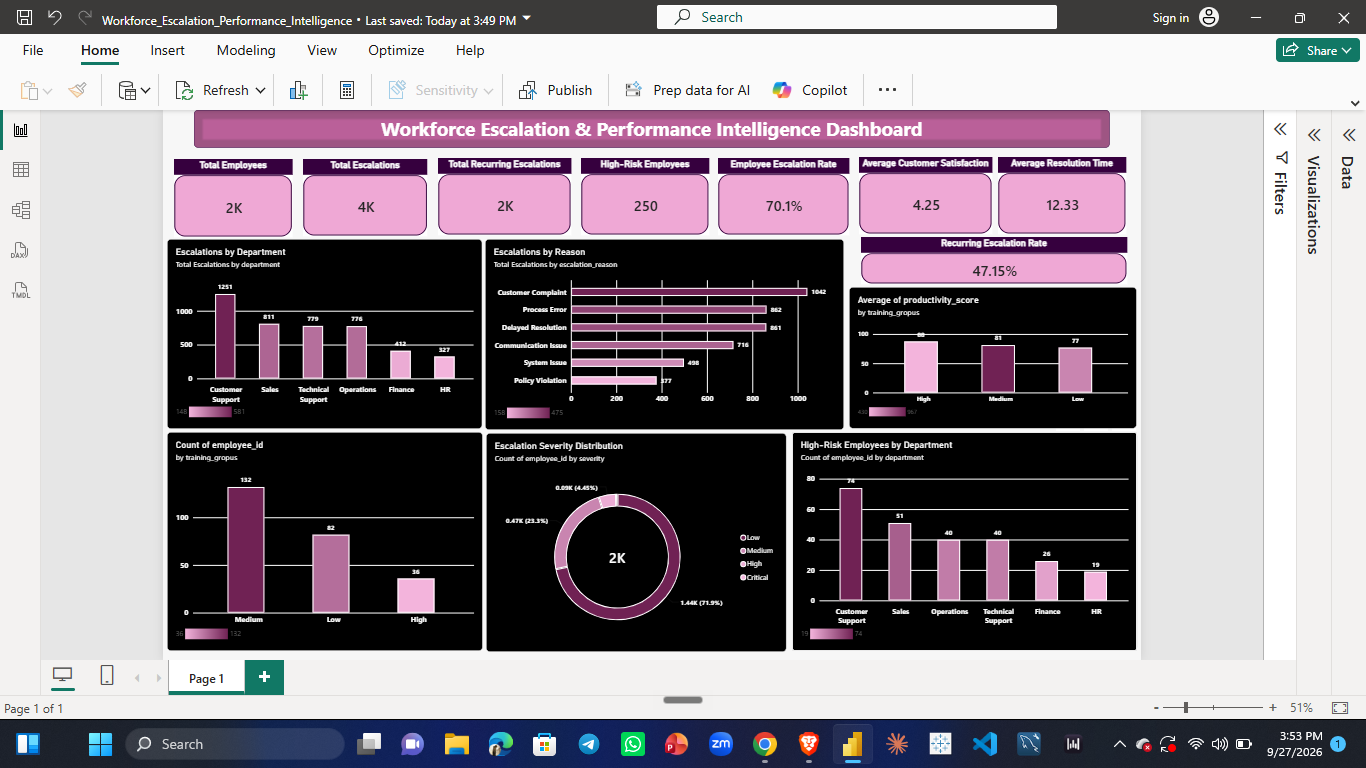

The page's visual inventory and layout, read from the dashboard file:
{"tool":"powerbi","page":{"name":"Page 1","canvas":[1920,1080],"ordinal":0},"visuals":[{"type":"cardVisual","title":"Total Employees","fields":{"Data":["WorkforceData.Total Employees"]},"box":[21.2,96.2,232.7,153.8],"z":0},{"type":"cardVisual","title":"Total Escalations","fields":{"Data":["WorkforceData.Total Escalations"]},"box":[275,96.2,244.2,151.9],"z":1000},{"type":"cardVisual","title":"Total Recurring Escalations","fields":{"Data":["WorkforceData.Recurring Escalations"]},"box":[540.4,94.2,261.5,151.9],"z":2000},{"type":"cardVisual","title":"High-Risk Employees","fields":{"Data":["WorkforceData.High-Risk Employees"]},"box":[821.2,94.2,251.9,151.9],"z":3000},{"type":"cardVisual","title":"Employee Escalation Rate","fields":{"Data":["WorkforceData.Employee Escalation Rate"]},"box":[1090.4,94.2,257.7,151.9],"z":4000},{"type":"cardVisual","title":"Recurring Escalation Rate","fields":{"Data":["WorkforceData.Recurring Escalation Rate"]},"box":[1370,250,522.5,92.5],"z":5000},{"type":"cardVisual","title":"Average Resolution Time","fields":{"Data":["WorkforceData.Average Resolution Time"]},"box":[1640.4,92.3,251.9,151.9],"z":6000},{"type":"cardVisual","title":"Average Customer Satisfaction","fields":{"Data":["WorkforceData.Average Customer Satisfaction"]},"box":[1367.3,92.3,261.5,151.9],"z":7000},{"type":"clusteredColumnChart","title":"Escalations by Department","fields":{"Category":["WorkforceData.department"],"Y":["WorkforceData.Total Escalations"]},"box":[7.5,253.7,619.4,373.1],"z":8000},{"type":"clusteredBarChart","title":"Escalations by Reason","fields":{"Category":["WorkforceData.escalation_reason"],"Y":["WorkforceData.Total Escalations"]},"box":[632.5,252.5,705,375],"z":9000},{"type":"clusteredColumnChart","title":"High-Risk Employees by Department","fields":{"Category":["WorkforceData.department"],"Y":["CountNonNull(WorkforceData.employee_id)"]},"box":[1235,632.5,677.5,430],"z":10000},{"type":"donutChart","title":"Escalation Severity Distribution","fields":{"Category":["WorkforceData.severity"],"Y":["CountNonNull(WorkforceData.employee_id)"]},"box":[635,635,590,430],"z":11000},{"type":"clusteredColumnChart","fields":{"Category":["WorkforceData.training_gropus"],"Y":["Avg(WorkforceData.productivity_score)"]},"box":[1347.5,347.5,565,277.5],"z":12000},{"type":"clusteredColumnChart","fields":{"Category":["WorkforceData.training_gropus"],"Y":["CountNonNull(WorkforceData.employee_id)"]},"box":[7.5,632.5,620,430],"z":13000},{"type":"textbox","box":[60.5,0,1797.7,74.4],"z":14000}]}

Visuals, with their boxes on the page's 1920x1080 design canvas (x1, y1, x2, y2). These are canvas units, not pixel positions in the 1366x768 screenshot, which may show the page scaled, cropped or inside an application window:
"Total Employees" cardVisual: <bbox>21, 96, 254, 250</bbox>
"Total Escalations" cardVisual: <bbox>275, 96, 519, 248</bbox>
"Total Recurring Escalations" cardVisual: <bbox>540, 94, 802, 246</bbox>
"High-Risk Employees" cardVisual: <bbox>821, 94, 1073, 246</bbox>
"Employee Escalation Rate" cardVisual: <bbox>1090, 94, 1348, 246</bbox>
"Recurring Escalation Rate" cardVisual: <bbox>1370, 250, 1892, 342</bbox>
"Average Resolution Time" cardVisual: <bbox>1640, 92, 1892, 244</bbox>
"Average Customer Satisfaction" cardVisual: <bbox>1367, 92, 1629, 244</bbox>
"Escalations by Department" clusteredColumnChart: <bbox>8, 254, 627, 627</bbox>
"Escalations by Reason" clusteredBarChart: <bbox>632, 252, 1338, 628</bbox>
"High-Risk Employees by Department" clusteredColumnChart: <bbox>1235, 632, 1912, 1062</bbox>
"Escalation Severity Distribution" donutChart: <bbox>635, 635, 1225, 1065</bbox>
clusteredColumnChart - WorkforceData.training_gropus x Avg(WorkforceData.productivity_score): <bbox>1348, 348, 1912, 625</bbox>
clusteredColumnChart - WorkforceData.training_gropus x CountNonNull(WorkforceData.employee_id): <bbox>8, 632, 628, 1062</bbox>
textbox: <bbox>60, 0, 1858, 74</bbox>
